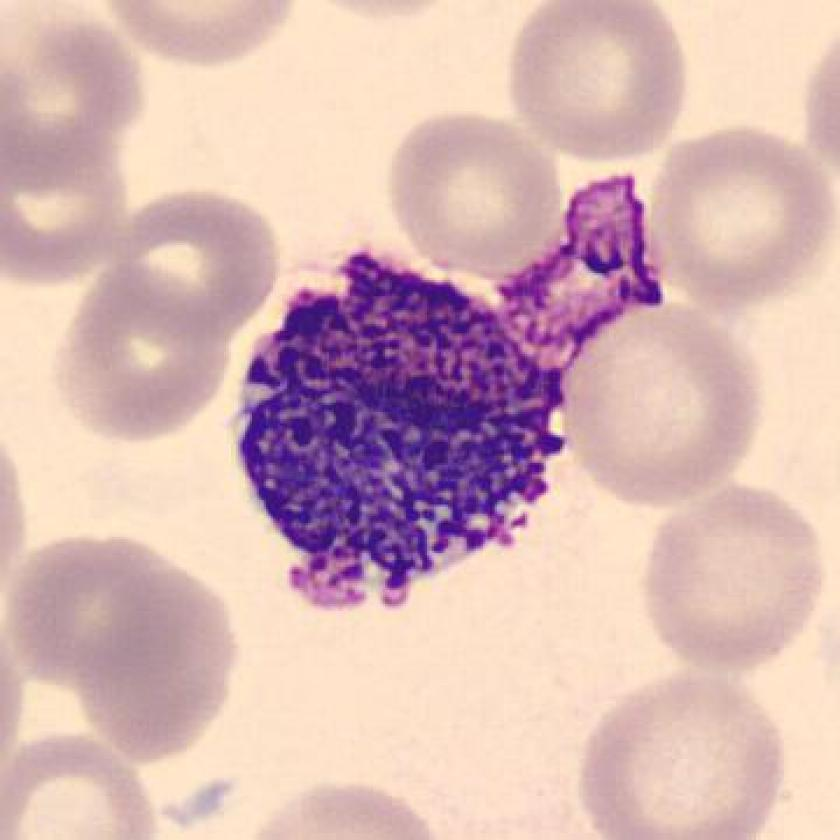basophil: (242, 253, 564, 577)
